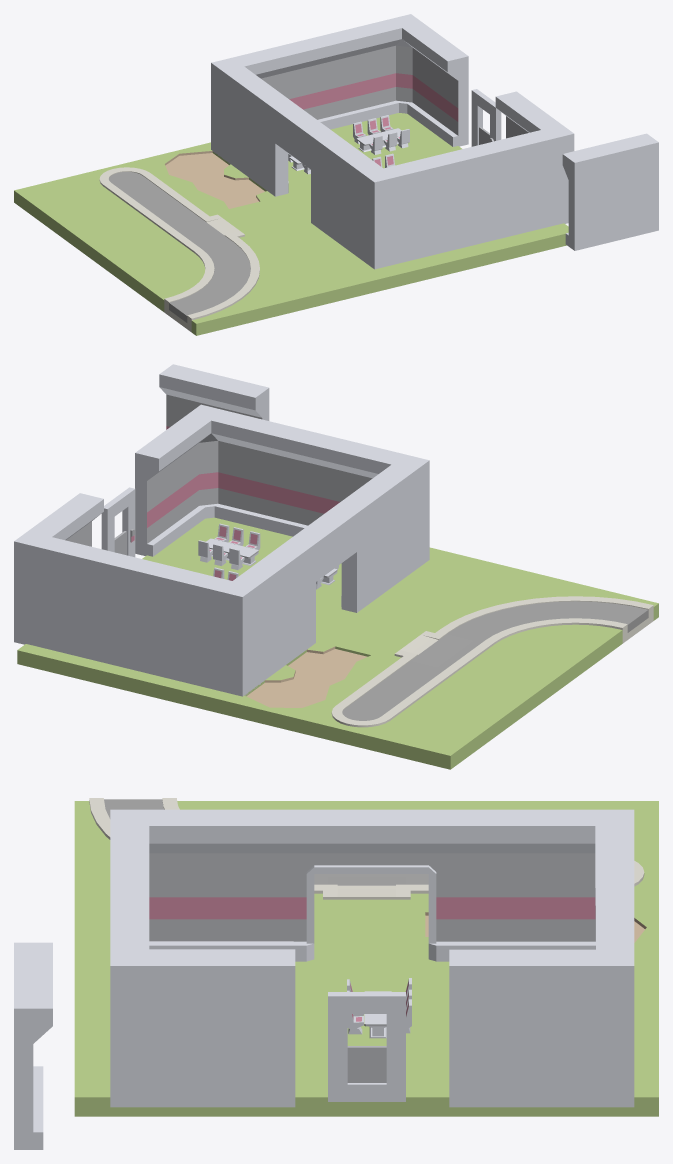
The model's file is kitchen-floor.dae.
3 views of the same model, one above another, from view 1: azimuth 30°, elevation 25°; view 2: azimuth 150°, elevation 25°; view 3: azimuth 270°, elevation 25° (orthographic). The views are drawn at different scales.
Parts seen in each view (by area): view 1: Mesh1_Group1_Model_0002, Mesh1_Group1_Model_002, Mesh1_Group1_Model_003, Mesh1_Group1_Model_0092, Mesh1_Group1_Model_0252, Mesh1_Group1_Model_0102, __04, __05, __03, __32, __24, __43 (+17 smaller); view 2: Mesh1_Group1_Model_0092, Mesh1_Group1_Model_003, Mesh1_Group1_Model_002, Mesh1_Group1_Model_0002, Mesh1_Group1_Model_0102, __43, Mesh1_Group1_Model_0252, __44, __45, __15, __32, __24 (+17 smaller); view 3: Mesh1_Group1_Model_003, Mesh1_Group1_Model_002, Mesh1_Group1_Model_0092, Mesh1_Group1_Model_0002, Mesh1_Group1_Model_0102, Mesh1_Group1_Model_0292, Mesh1_Group1_Model_0252, __23, __22, __2_001, __0, __25 (+22 smaller).
Boxes of the visible parts, x1,y1,x2,y2 form: Mesh1_Group1_Model_0002: (316, 135, 474, 269); Mesh1_Group1_Model_002: (311, 14, 468, 146); Mesh1_Group1_Model_003: (462, 91, 574, 244); Mesh1_Group1_Model_0092: (211, 38, 323, 191); Mesh1_Group1_Model_0252: (562, 133, 658, 250); Mesh1_Group1_Model_0102: (269, 100, 338, 226); __04: (160, 280, 259, 335); __05: (223, 266, 322, 320); __03: (286, 251, 385, 304); __32: (50, 201, 149, 255); __24: (87, 228, 185, 281); __43: (14, 175, 112, 228); Mesh1_Group1_Model_0092: (128, 543, 308, 696); Mesh1_Group1_Model_003: (135, 404, 314, 556); Mesh1_Group1_Model_002: (14, 493, 141, 668); Mesh1_Group1_Model_0002: (301, 432, 429, 607); Mesh1_Group1_Model_0102: (285, 503, 363, 647); __43: (378, 708, 492, 769); Mesh1_Group1_Model_0252: (159, 364, 269, 429); __44: (306, 690, 419, 751); __45: (234, 672, 347, 734); __15: (503, 615, 617, 677); __32: (420, 677, 533, 738); __24: (462, 647, 575, 708); Mesh1_Group1_Model_003: (110, 887, 295, 1107); Mesh1_Group1_Model_002: (449, 888, 634, 1107); Mesh1_Group1_Model_0092: (449, 809, 634, 949); Mesh1_Group1_Model_0002: (110, 809, 295, 949); Mesh1_Group1_Model_0102: (293, 809, 449, 961); Mesh1_Group1_Model_0292: (328, 992, 405, 1101); Mesh1_Group1_Model_0252: (14, 942, 52, 1149); __23: (314, 899, 425, 948); __22: (308, 949, 425, 998); __2_001: (308, 1048, 425, 1116); __0: (74, 1048, 191, 1116); __25: (314, 874, 425, 899).
Size of the model in its own units: 21.08 by 16.55 by 4.5.
